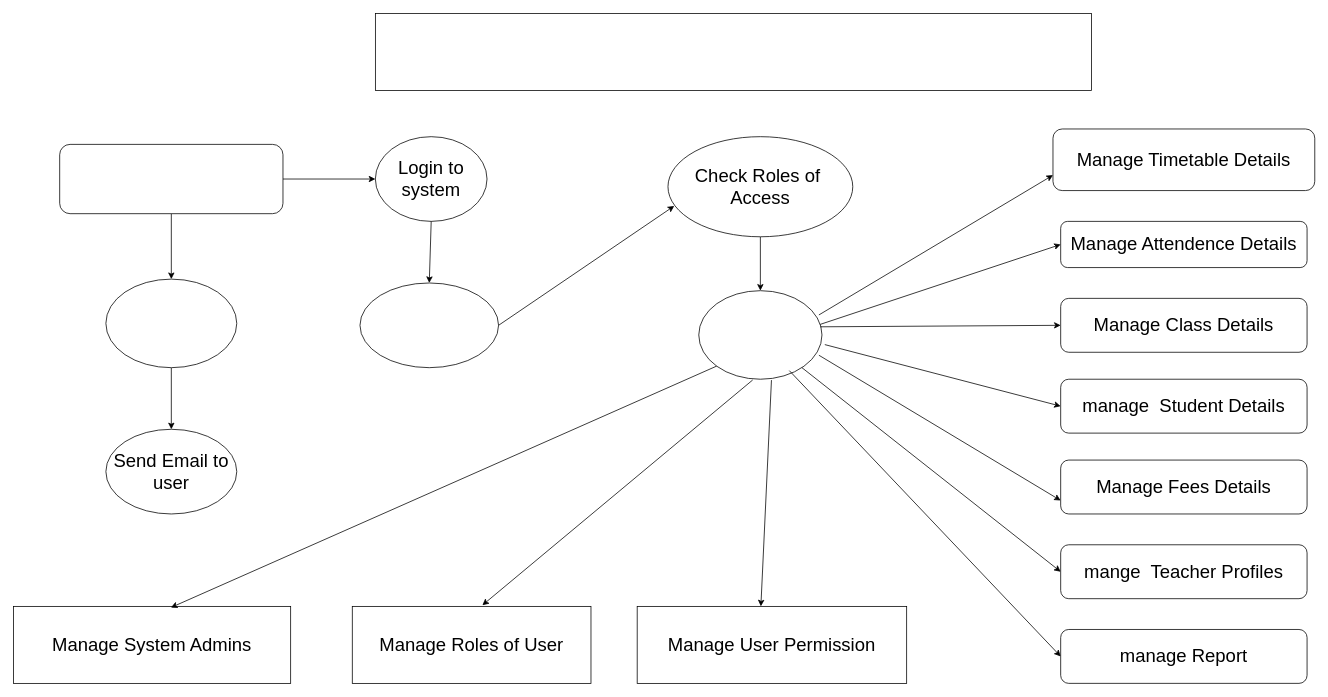
Image size: 1328x697. Some labels were removed from this diagram. The shapes that lost their labels are listed below. From the top down, each one's centre as x and y in pixels, then its label:
(x=733, y=51): Student Information system
(x=171, y=179): Admin
(x=171, y=323): Forgot password
(x=429, y=325): Check Credentials
(x=760, y=334): Manages Modules
